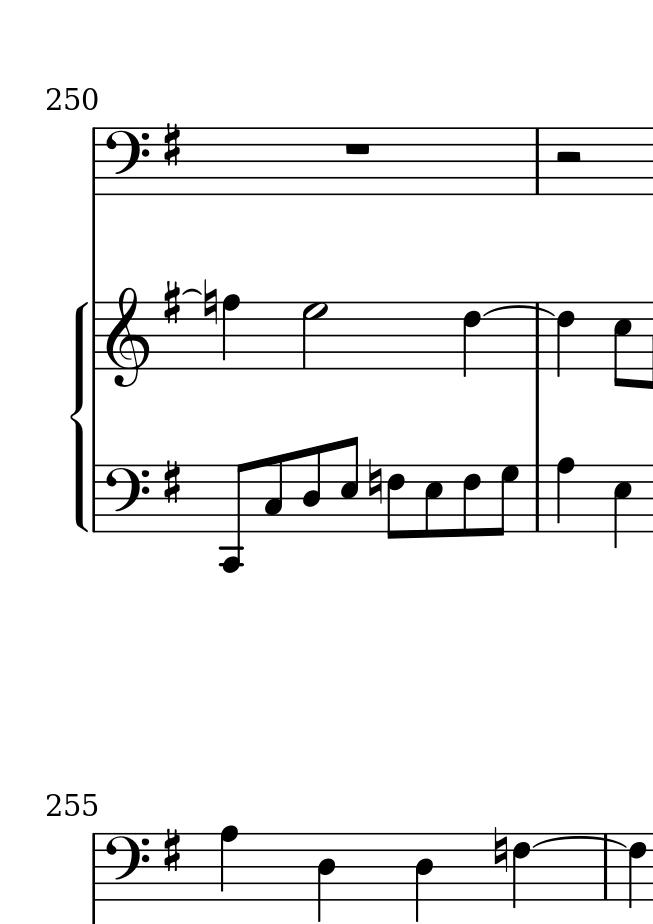0: (79, 86, 98, 114)
2: (45, 86, 63, 112), (44, 793, 63, 817)
2_7: (300, 301, 328, 371)
4_4: (413, 832, 435, 924), (315, 833, 337, 924)
4_5: (612, 463, 634, 551)
4_6: (626, 831, 649, 909), (460, 300, 481, 379), (554, 300, 575, 378), (511, 832, 531, 912)
4_8: (220, 292, 243, 372), (217, 824, 240, 902), (554, 456, 576, 533)
5: (61, 85, 80, 111), (62, 792, 80, 816), (82, 791, 97, 816)
8_-4: (218, 460, 250, 573)
8_3: (263, 453, 285, 534)
8_4: (302, 444, 325, 534)
8_5: (338, 436, 360, 535), (612, 301, 633, 389), (423, 463, 444, 540)
8_6: (385, 464, 406, 544), (460, 463, 481, 539)
8_7: (491, 463, 519, 537)
Brace: (69, 300, 88, 531)
Fclef: (98, 124, 150, 197), (101, 832, 149, 903), (102, 462, 149, 534)
Gclef: (105, 285, 152, 389)
Natural: (200, 278, 217, 327), (492, 825, 509, 874), (367, 457, 383, 505)
Rests1: (341, 139, 374, 158)
Rests2: (553, 148, 586, 168)
Sharp: (160, 121, 183, 171), (161, 827, 184, 875), (161, 459, 182, 505), (163, 281, 181, 326)
Single_barline: (528, 465, 546, 530), (529, 305, 547, 369), (530, 128, 545, 193), (88, 304, 103, 369), (88, 466, 103, 531), (88, 129, 102, 193), (88, 834, 102, 898), (599, 848, 612, 900)
Slur: (532, 836, 629, 846), (484, 305, 555, 318), (180, 288, 202, 297)
